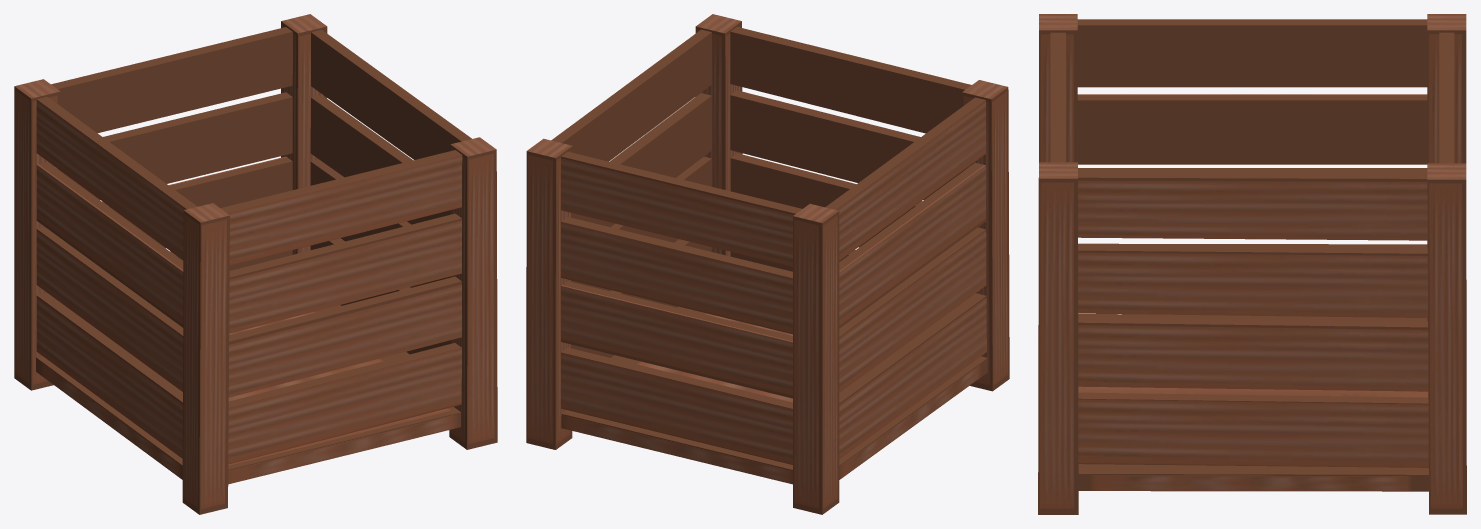
File: Bin (1).fbx
The picture shows the model from 3 angles, left to right: view 1: azimuth 30°, elevation 25°; view 2: azimuth 150°, elevation 25°; view 3: azimuth 270°, elevation 25°; orthographic projection. The views are drawn at different scales.
Parts seen in each view (by area): view 1: Bin (1); view 2: Bin (1); view 3: Bin (1).
Part boxes in pixels (x1,y1,x2,y2): Bin (1): (14, 14, 497, 514); Bin (1): (526, 14, 1009, 514); Bin (1): (1038, 14, 1466, 514).
Bounding box in the file's own units: 0.5412 × 0.5085 × 0.5884.
